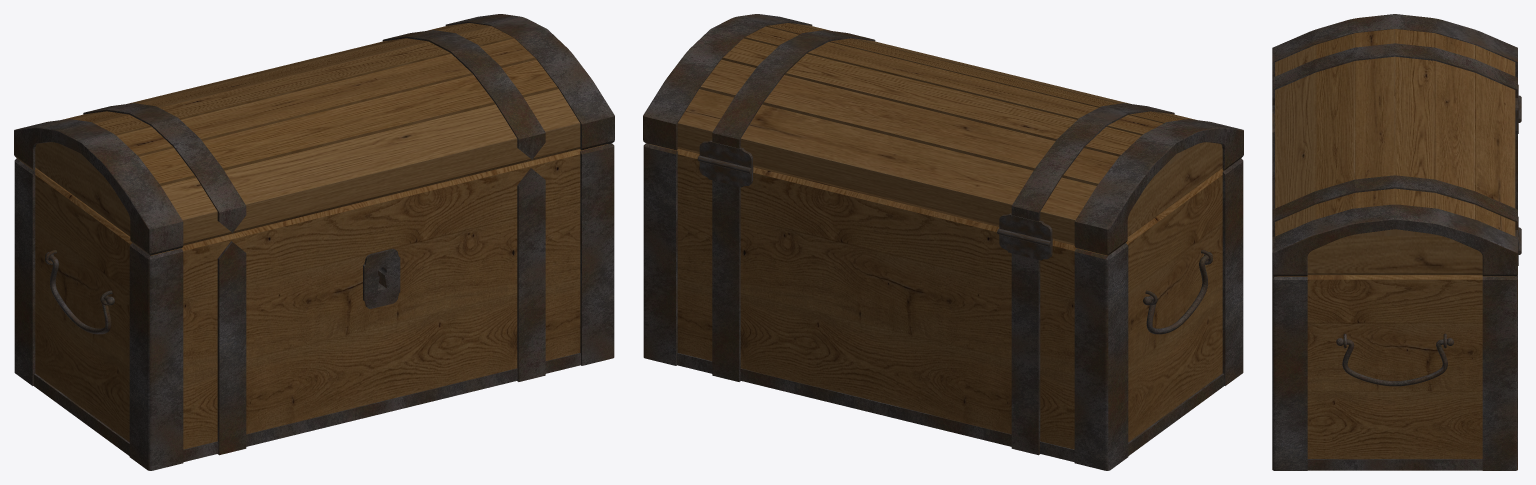
The model's file is 136_arcon_pequeno_00.glb.
3 views of the same model, side by side, from view 1: azimuth 30°, elevation 25°; view 2: azimuth 150°, elevation 25°; view 3: azimuth 270°, elevation 25° (orthographic). The views are drawn at different scales.
Parts seen in each view (by area): view 1: Caja, Tapa, Esquinas caja, Esquinas arriba, Tira interna Abajo, Tira interna Arriba, Base Caja, Cerradura, Asas; view 2: Caja, Tapa, Esquinas caja, Esquinas arriba, Tira interna Abajo, Tira interna Arriba, Base Caja, Base visagra Arriba, Base visagra Abajo, Asas, Eje visagra; view 3: Tapa, Caja, Esquinas caja, Esquinas arriba, Tira interna Arriba, Base Caja, Asas, Tira interna Abajo.
Boxes of the visible parts, x1,y1,x2,y2 form: Caja: (34, 144, 607, 449); Tapa: (35, 23, 580, 245); Esquinas caja: (14, 143, 614, 470); Esquinas arriba: (14, 14, 614, 255); Tira interna Abajo: (217, 168, 545, 455); Tira interna Arriba: (83, 30, 545, 232); Base Caja: (33, 353, 580, 462); Cerradura: (363, 248, 400, 308); Asas: (48, 255, 111, 334); Caja: (650, 144, 1223, 449); Tapa: (677, 23, 1222, 245); Esquinas caja: (643, 143, 1243, 470); Esquinas arriba: (643, 14, 1243, 255); Tira interna Abajo: (712, 180, 1040, 455); Tira interna Arriba: (712, 30, 1174, 221); Base Caja: (677, 353, 1224, 462); Base visagra Arriba: (699, 140, 1052, 242); Base visagra Abajo: (699, 161, 1052, 260); Asas: (1146, 255, 1209, 334); Eje visagra: (697, 155, 1052, 246); Tapa: (1275, 29, 1515, 274); Caja: (1275, 275, 1514, 458); Esquinas caja: (1272, 105, 1517, 470); Esquinas arriba: (1272, 14, 1517, 276); Tira interna Arriba: (1272, 43, 1517, 237); Base Caja: (1307, 459, 1482, 470); Asas: (1342, 339, 1447, 386); Tira interna Abajo: (1272, 113, 1517, 209).
Size of the model in its own units: 0.5031 by 0.2796 by 0.2492.
Materials: 4 (4 with a texture image).
